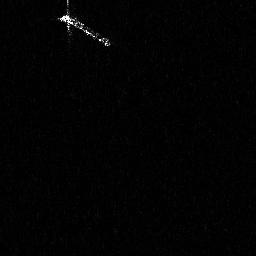ship: (56, 1, 113, 48)
